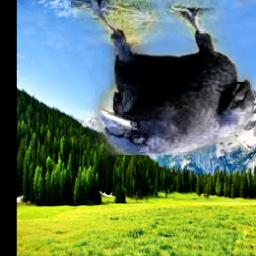Crow: (71, 0, 254, 156)
